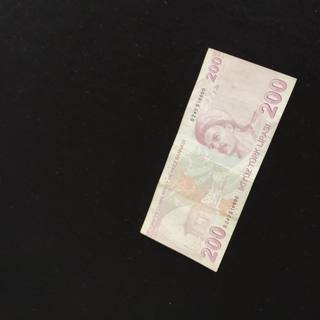200TLBack: (140, 47, 297, 273)
